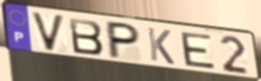2: (218, 34, 253, 77)
B: (67, 16, 106, 57)
E: (178, 31, 217, 71)
K: (145, 26, 177, 66)
P: (107, 20, 142, 61)
V: (29, 10, 67, 54)
